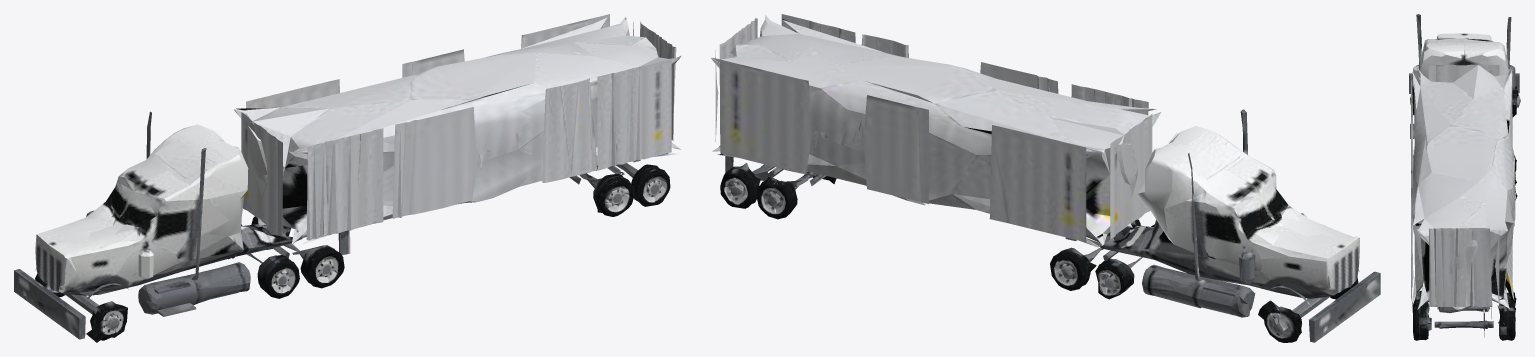
File: truck_container.glb
3 views of the same model, side by side, from view 1: azimuth 30°, elevation 25°; view 2: azimuth 150°, elevation 25°; view 3: azimuth 270°, elevation 25° (orthographic). The views are drawn at different scales.
Visible parts, largest first — view 1: output_unwrapped; view 2: output_unwrapped; view 3: output_unwrapped.
Boxes of the visible parts, bbox=[...] form: output_unwrapped: bbox=[14, 14, 681, 342]; output_unwrapped: bbox=[711, 14, 1380, 342]; output_unwrapped: bbox=[1409, 14, 1520, 340].
Bounding box in the file's own units: 0.9556 × 0.2505 × 0.1798.
1 material, 1 textured.
